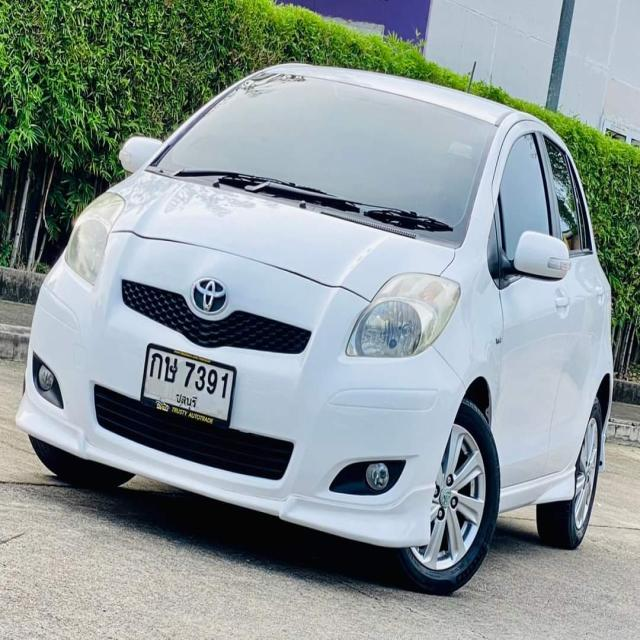license_plate: (136, 338, 238, 437)
